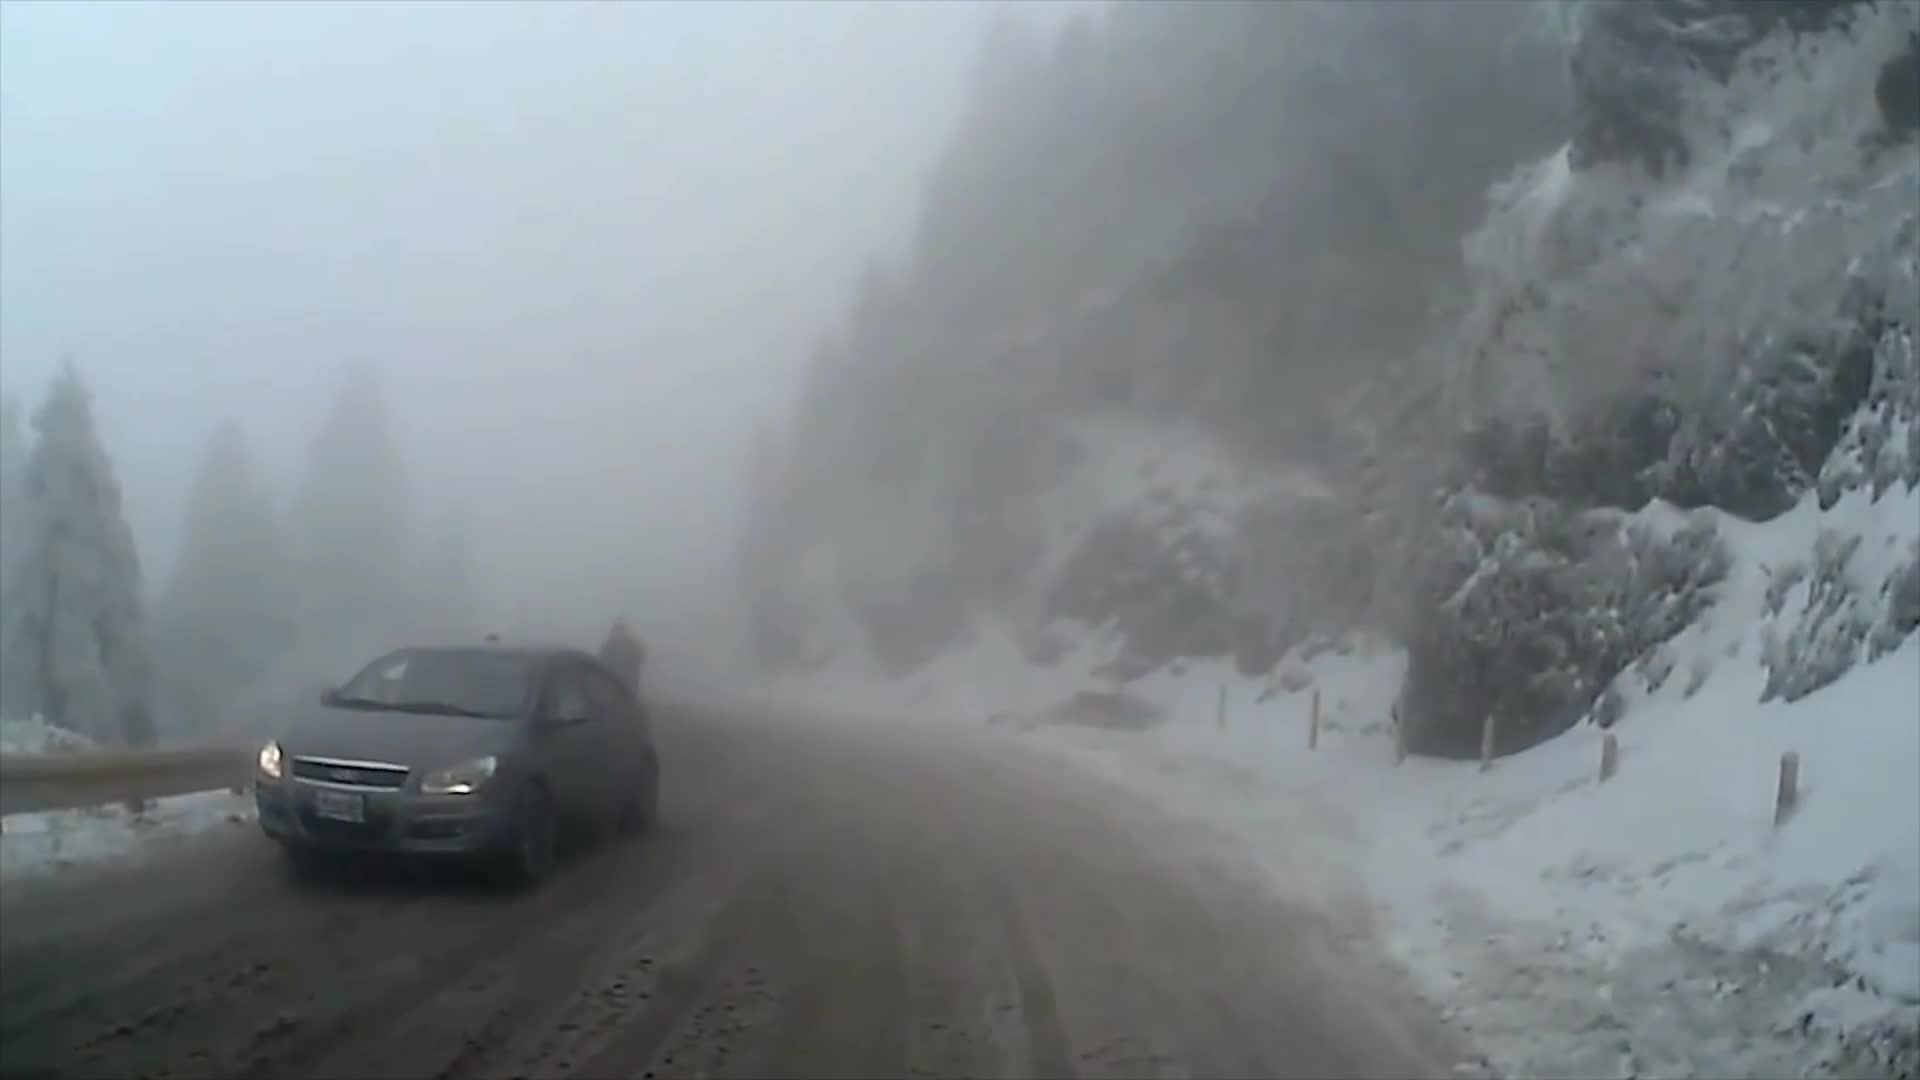vehicle: (251, 636, 659, 885)
